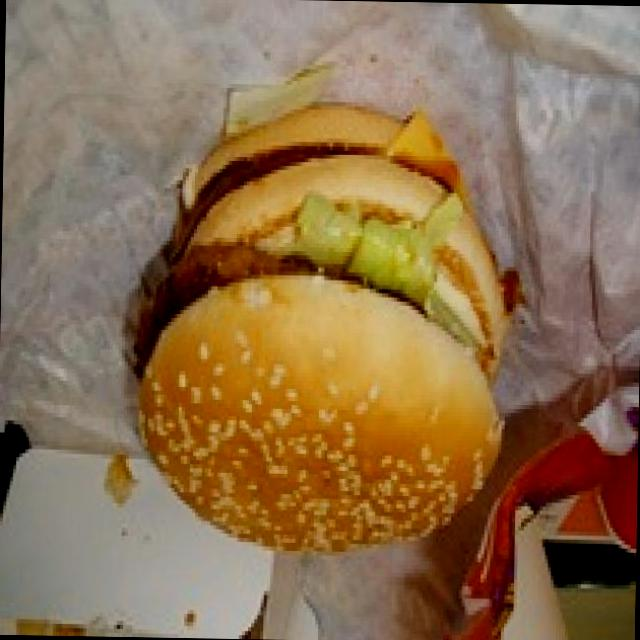Hamburger: (134, 104, 526, 559)
